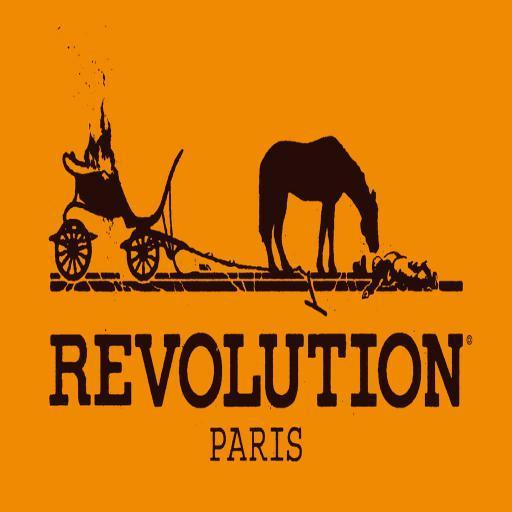horse: (260, 120, 378, 275)
